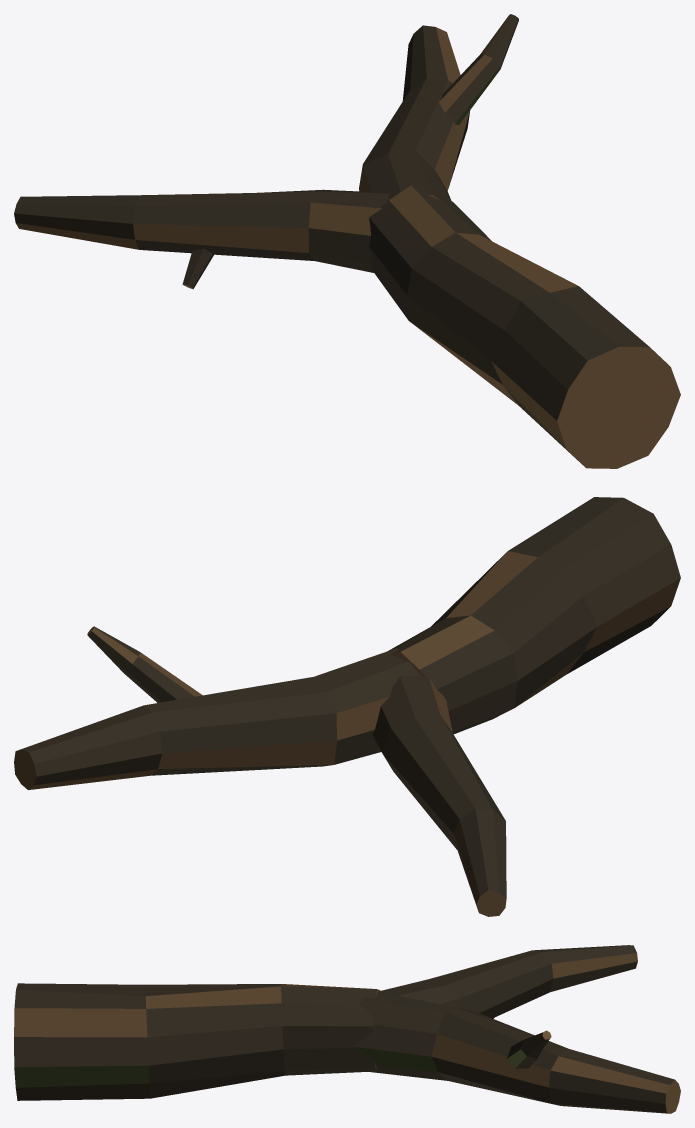
File: wood_006a_forked_fallen_log.glb
3 renders of one model, top to bottom at view 1: azimuth 30°, elevation 25°; view 2: azimuth 150°, elevation 25°; view 3: azimuth 270°, elevation 25°, orthographic. The views are drawn at different scales.
Parts seen in each view (by area): view 1: wood_006a_forked_fallen_log__mesh; view 2: wood_006a_forked_fallen_log__mesh; view 3: wood_006a_forked_fallen_log__mesh.
Boxes of the visible parts, x1,y1,x2,y2 form: wood_006a_forked_fallen_log__mesh: [14, 14, 680, 468]; wood_006a_forked_fallen_log__mesh: [14, 497, 680, 916]; wood_006a_forked_fallen_log__mesh: [14, 945, 680, 1113].
Bounding box in the file's own units: 7.25 × 2.65 × 10.79.
